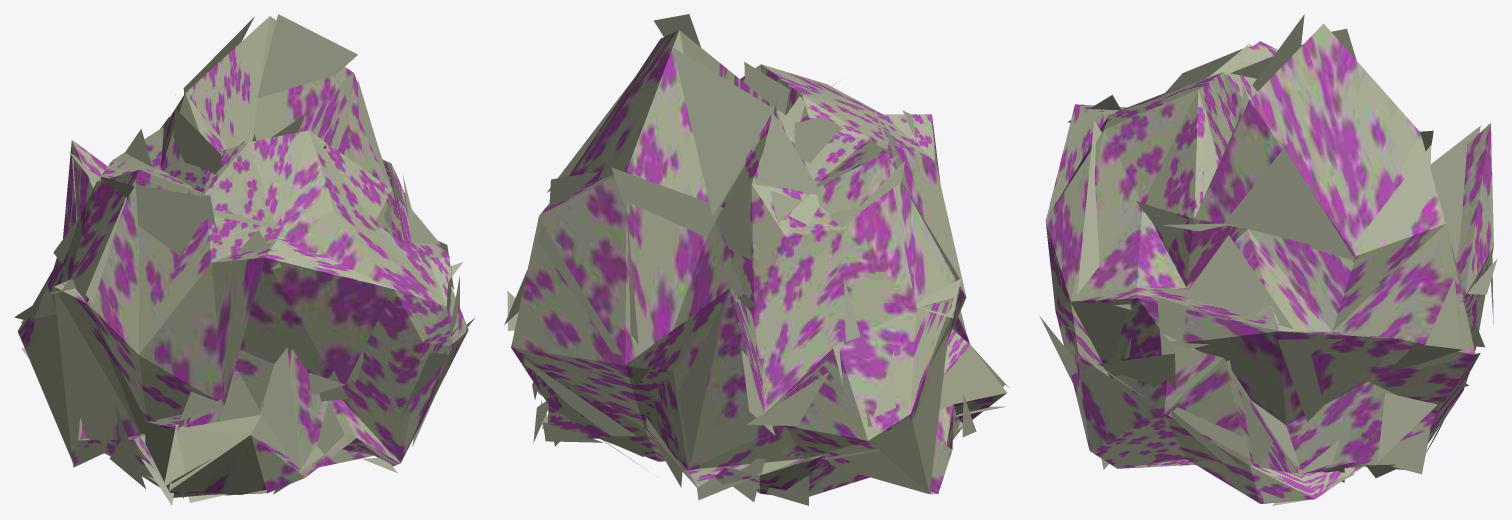
Rendered from arbusto_cenizo.fbx.
The picture shows the model from 3 angles, left to right: view 1: azimuth 30°, elevation 25°; view 2: azimuth 150°, elevation 25°; view 3: azimuth 270°, elevation 25°; orthographic projection. The views are drawn at different scales.
Parts seen in each view (by area): view 1: arbusto, arbusto.001; view 2: arbusto, arbusto.001; view 3: arbusto, arbusto.001.
Part boxes in pixels (left/top/right/bottom): arbusto: left=17, top=16, right=468, bottom=495; arbusto.001: left=14, top=14, right=475, bottom=505; arbusto: left=511, top=30, right=1006, bottom=496; arbusto.001: left=504, top=14, right=1009, bottom=505; arbusto: left=1045, top=23, right=1493, bottom=503; arbusto.001: left=1040, top=14, right=1497, bottom=505.
Size of the model in its own units: 333 by 347 by 320.
Materials: 2 (1 with a texture image).
